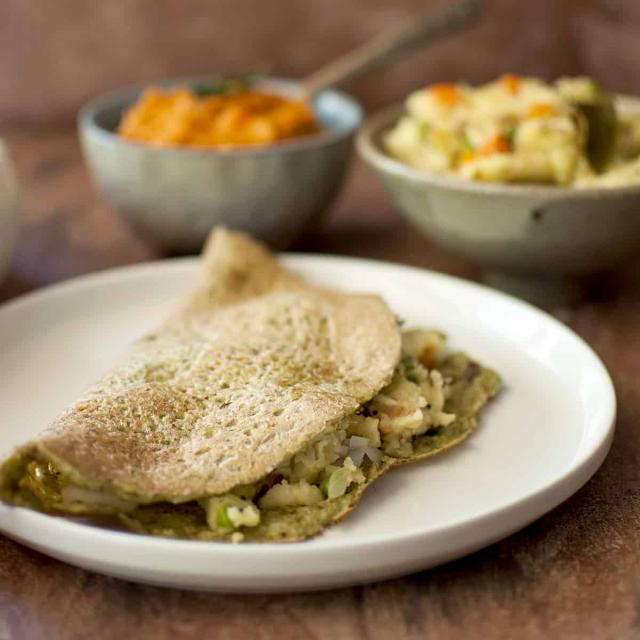DOSA: (11, 227, 499, 542)
